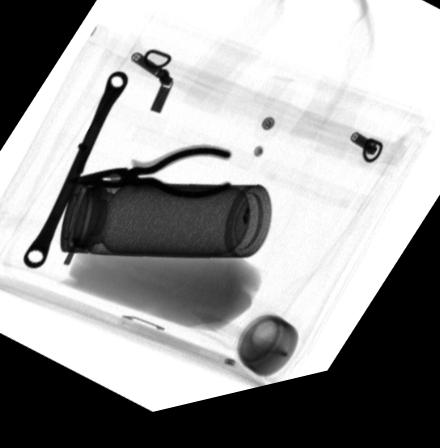Pliers: (68, 153, 230, 212)
Wrench: (20, 77, 127, 271)
